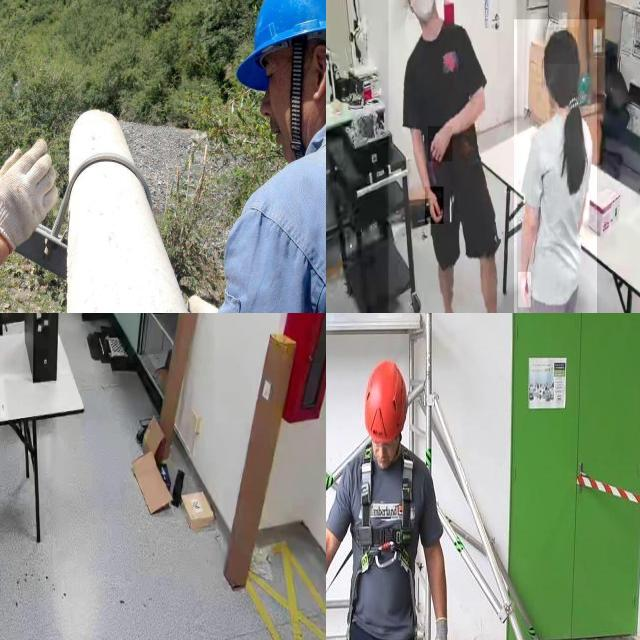Harness: (355, 448, 414, 576)
No_Ear-Protection: (301, 35, 326, 104)
No_Glasses: (259, 49, 293, 94)
face_mask: (407, 0, 438, 19)
hand_noglove: (428, 126, 453, 162), (425, 187, 444, 224), (518, 272, 532, 308)
head_nohelmet: (543, 27, 579, 65)
person: (388, 0, 517, 313), (514, 19, 597, 313)
